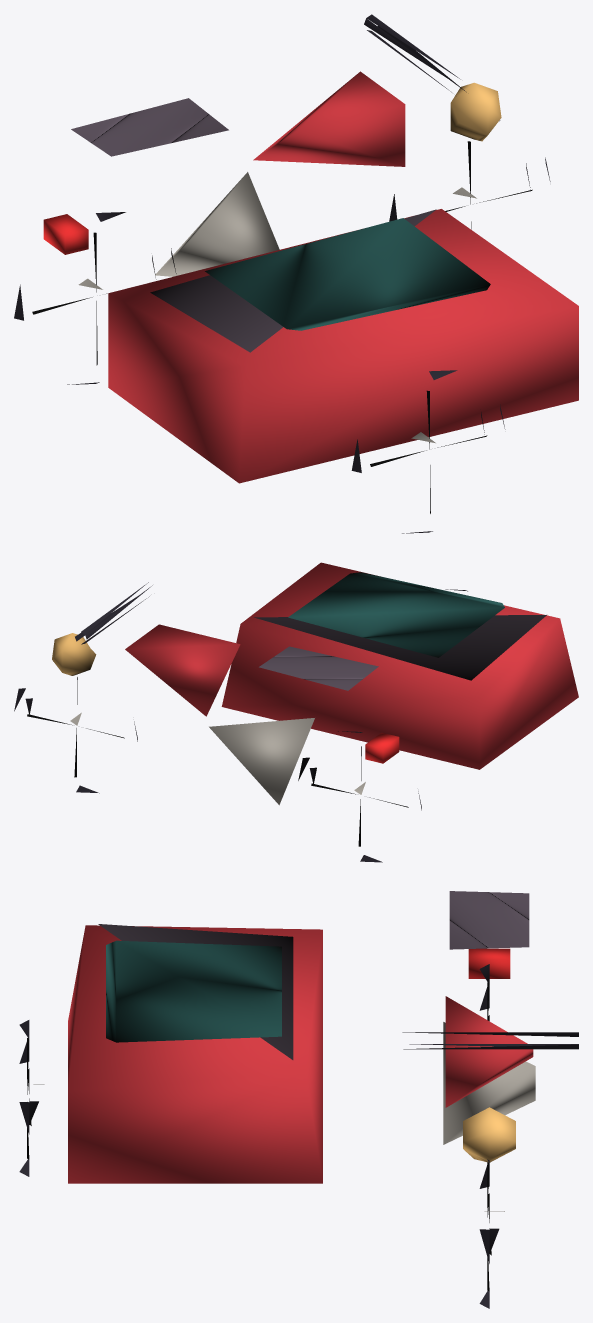
The model's file is veh.courier-motorbike.lod2.glb.
3 renders of one model, top to bottom at view 1: azimuth 30°, elevation 25°; view 2: azimuth 150°, elevation 25°; view 3: azimuth 270°, elevation 25°, orthographic. The views are drawn at different scales.
Parts seen in each view (by area): view 1: object 8, body, lightsFront, lightsBrake, handlebar, wheel_rear, sidecar_wheel; view 2: object 8, body, lightsFront, lightsBrake, handlebar, wheel_rear, wheel_front; view 3: object 8, body, lightsFront, handlebar, lightsBrake, sidecar_wheel, wheel_front.
Boxes of the visible parts, box(x1,y1,x2,y2) form: object 8: box(108, 209, 578, 483); body: box(71, 71, 405, 276); lightsFront: box(450, 82, 501, 141); lightsBrake: box(43, 214, 88, 254); handlebar: box(364, 14, 466, 92); wheel_rear: box(14, 212, 176, 384); sidecar_wheel: box(351, 370, 505, 533); object 8: box(221, 562, 578, 769); body: box(125, 624, 378, 805); lightsFront: box(52, 633, 96, 675); lightsBrake: box(365, 732, 399, 763); handlebar: box(75, 582, 152, 644); wheel_rear: box(298, 731, 421, 862); wheel_front: box(14, 677, 137, 793); object 8: box(68, 924, 322, 1183); body: box(443, 891, 535, 1144); lightsFront: box(463, 1107, 515, 1162); handlebar: box(402, 1032, 578, 1049); lightsBrake: box(468, 948, 510, 978); sidecar_wheel: box(19, 1020, 44, 1176); wheel_front: box(479, 1159, 504, 1308).
Bounding box in the file's own units: 2.37 × 1.09 × 2.21.
